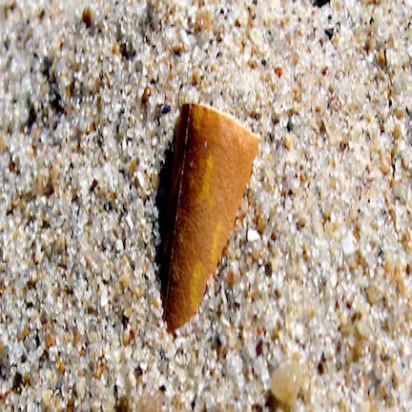cigarette: (148, 88, 269, 340)
